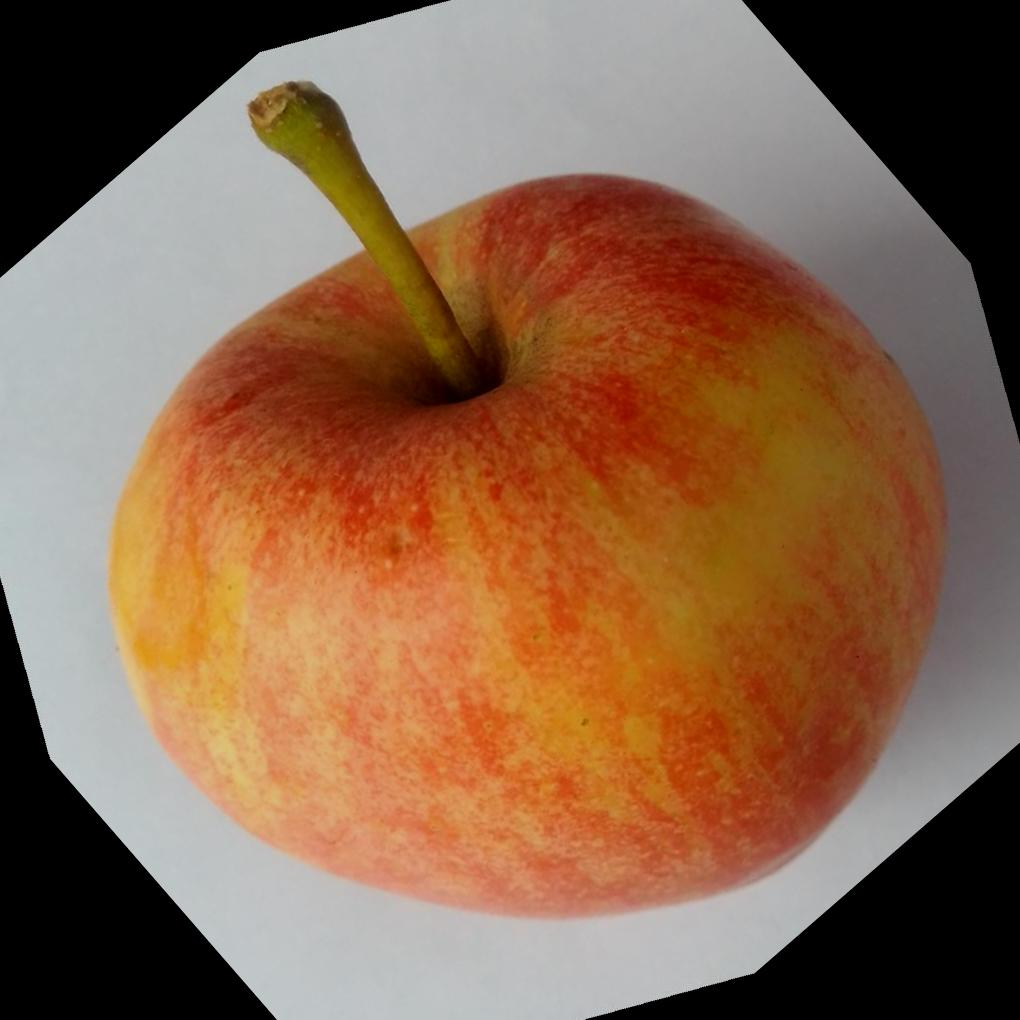FreshGuava: (106, 172, 952, 926)
